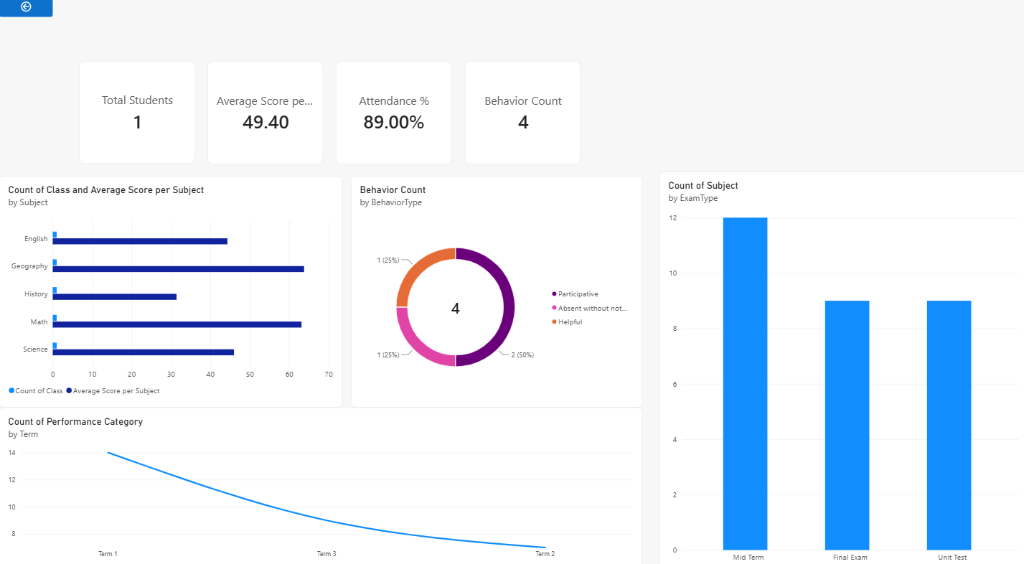

The page's visual inventory and layout, read from the dashboard file:
{"tool":"powerbi","page":{"name":"Student Profile","canvas":[1920,1080],"ordinal":1},"visuals":[{"type":"actionButton","box":[0,0,100,40],"z":0},{"type":"cardVisual","fields":{"Data":["_Measures.Total Students"]},"box":[148.5,122.1,216,192],"z":1000},{"type":"cardVisual","fields":{"Data":["_Measures.Attendance %"]},"box":[628.5,122.1,216,192],"z":2000},{"type":"cardVisual","fields":{"Data":["_Measures.Average Score per Subject"]},"box":[388.5,122.1,216,192],"z":3000},{"type":"cardVisual","fields":{"Data":["_Measures.Behavior Count"]},"box":[868.5,122.1,216,192],"z":4000},{"type":"clusteredBarChart","fields":{"Category":["Scores.Subject"],"Y":["Count(Students.Class)","_Measures.Average Score per Subject"]},"box":[0,336,640,432],"z":5000},{"type":"lineChart","fields":{"Category":["Scores.Term"],"Y":["CountNonNull(Scores.Performance Category)"]},"box":[0,768,1200,304],"z":6000},{"type":"donutChart","fields":{"Category":["Behavior.BehaviorType"],"Y":["_Measures.Behavior Count"]},"box":[656,336,544,432],"z":7000},{"type":"clusteredColumnChart","fields":{"Category":["Scores.ExamType"],"Y":["CountNonNull(Scores.Subject)"]},"box":[1232,328,688,752],"z":7001}]}

Visuals, with their boxes in screenshot pixels (x1, y1, x2, y2), scaled from the page's 1920x1080 canvas onto the 1024x564 screenshot:
actionButton: [left=0, top=0, right=53, bottom=21]
cardVisual - _Measures.Total Students: [left=79, top=64, right=194, bottom=164]
cardVisual - _Measures.Attendance %: [left=335, top=64, right=450, bottom=164]
cardVisual - _Measures.Average Score per Subject: [left=207, top=64, right=322, bottom=164]
cardVisual - _Measures.Behavior Count: [left=463, top=64, right=578, bottom=164]
clusteredBarChart - Scores.Subject x Count(Students.Class): [left=0, top=175, right=341, bottom=401]
lineChart - Scores.Term x CountNonNull(Scores.Performance Category): [left=0, top=401, right=640, bottom=560]
donutChart - Behavior.BehaviorType x _Measures.Behavior Count: [left=350, top=175, right=640, bottom=401]
clusteredColumnChart - Scores.ExamType x CountNonNull(Scores.Subject): [left=657, top=171, right=1023, bottom=563]
